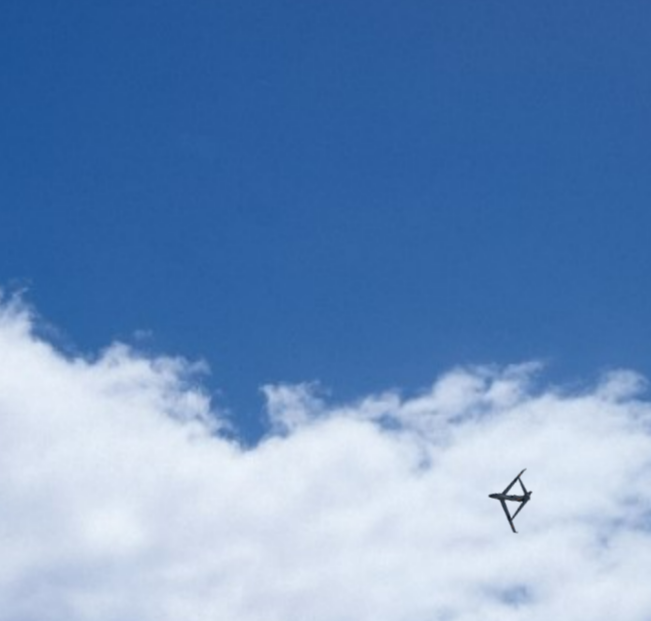military drone: (488, 467, 533, 533)
